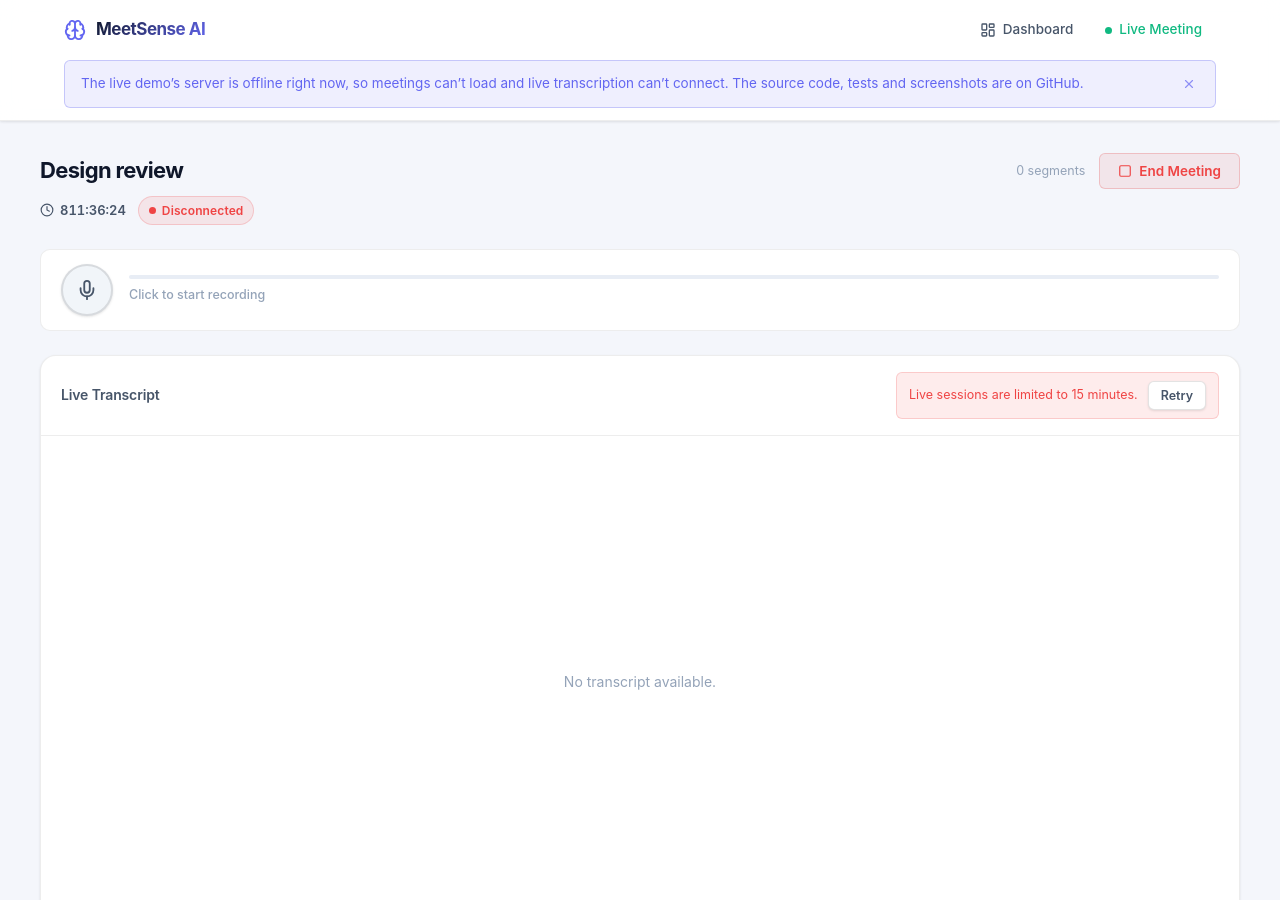
Scenario: MeetingRoom › shows the server error and a Retry button once the stream gives up
Check: the heading "Design review" is shown, box x1=40 y1=157 x2=183 y2=183
Check: the message "Live sessions are limited to 15 minutes. Retry" is shown, box x1=896 y1=372 x2=1219 y2=419
Click the button "Retry": (1177, 396) x1=1148 y1=381 x2=1206 y2=410
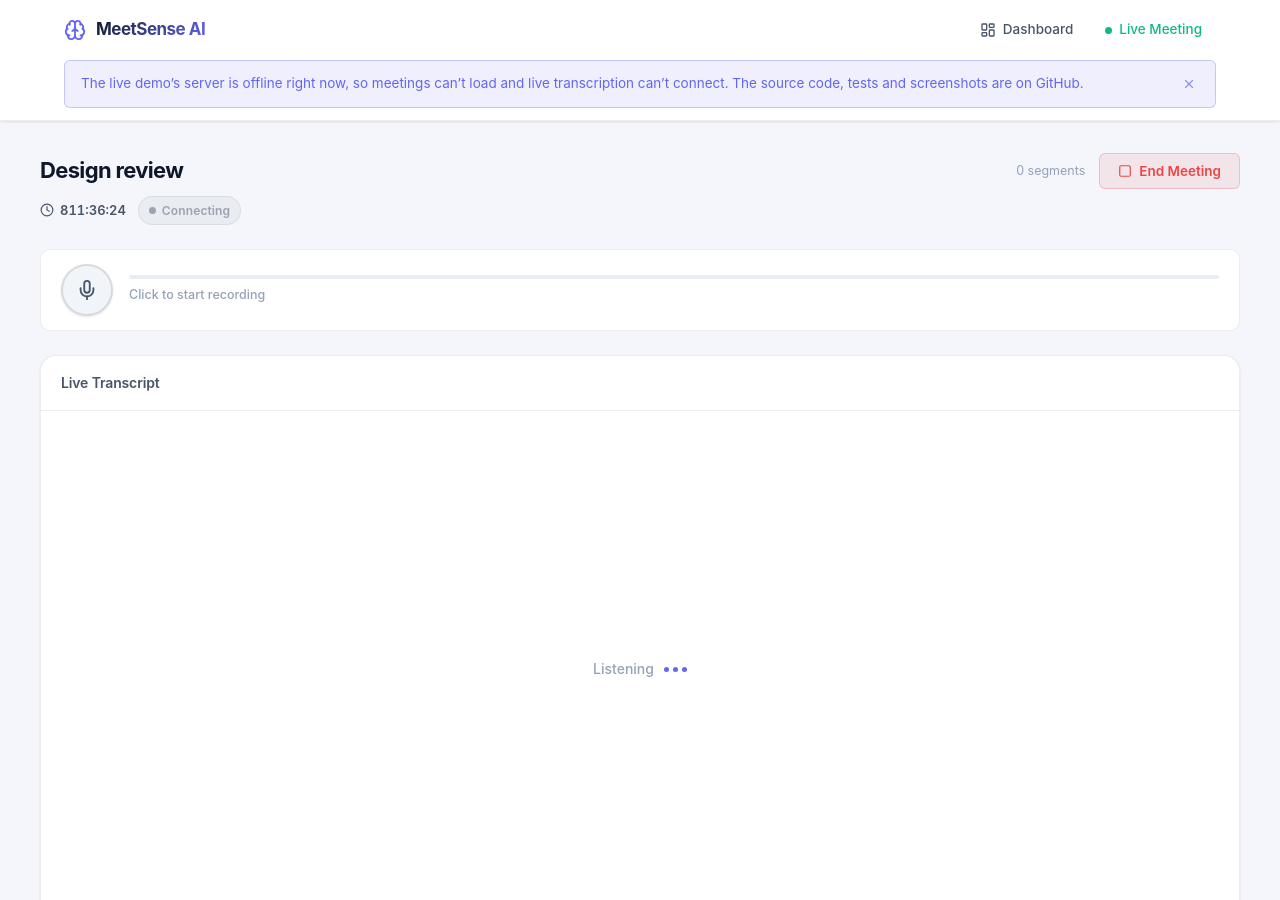
Check: the text "Connecting" is shown, box x1=138 y1=196 x2=241 y2=225
